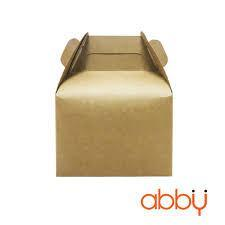box: (55, 30, 174, 177)
